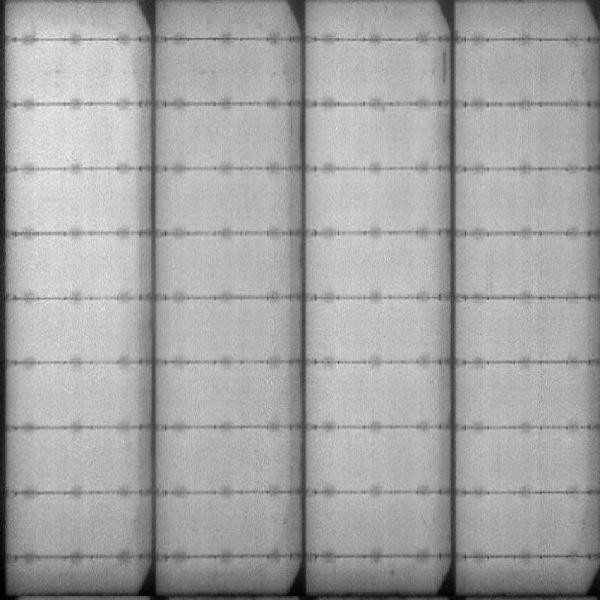scratch: (439, 50, 449, 83)
